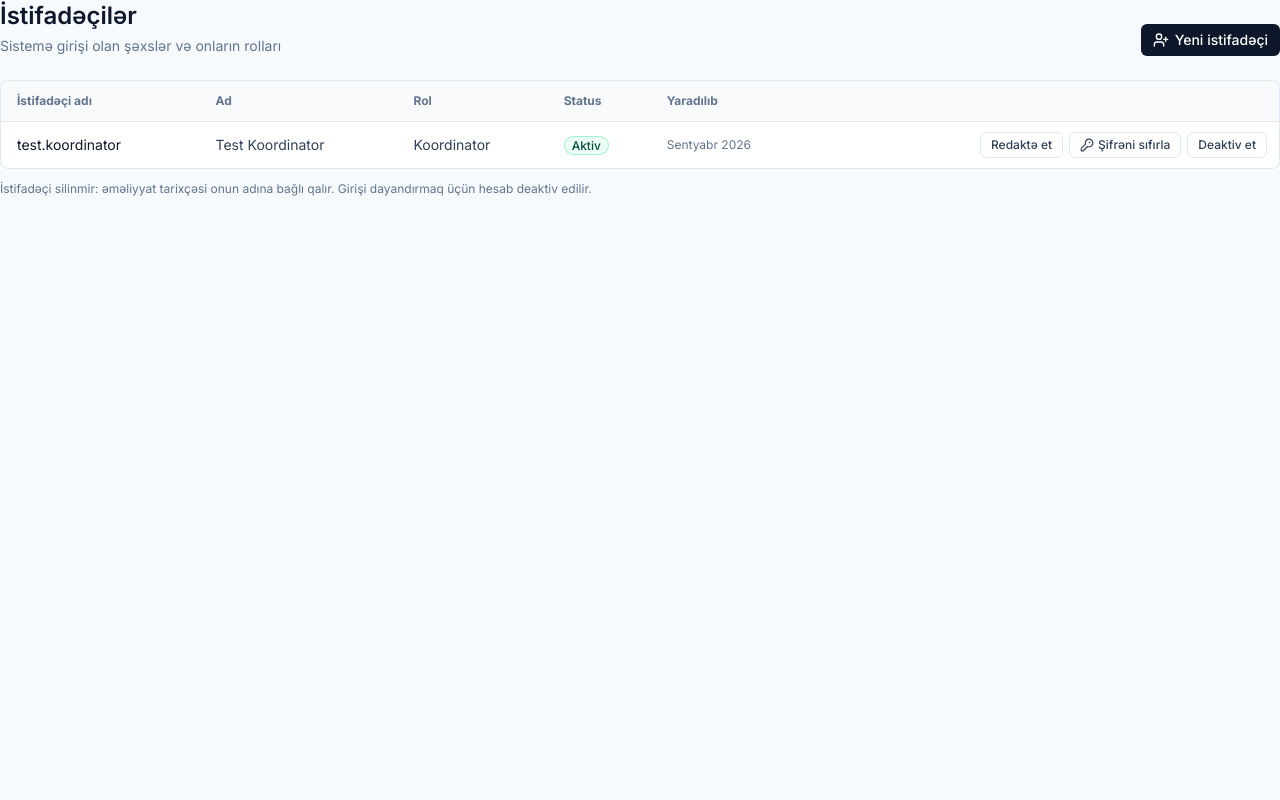
editing somebody › will not rename the login, and warns that old history keeps the old name
Expected: the heading "İstifadəçilər" is shown, [0, 1, 137, 30]
Click the button "Redaktə et" at (1022, 145), box [980, 132, 1063, 158]
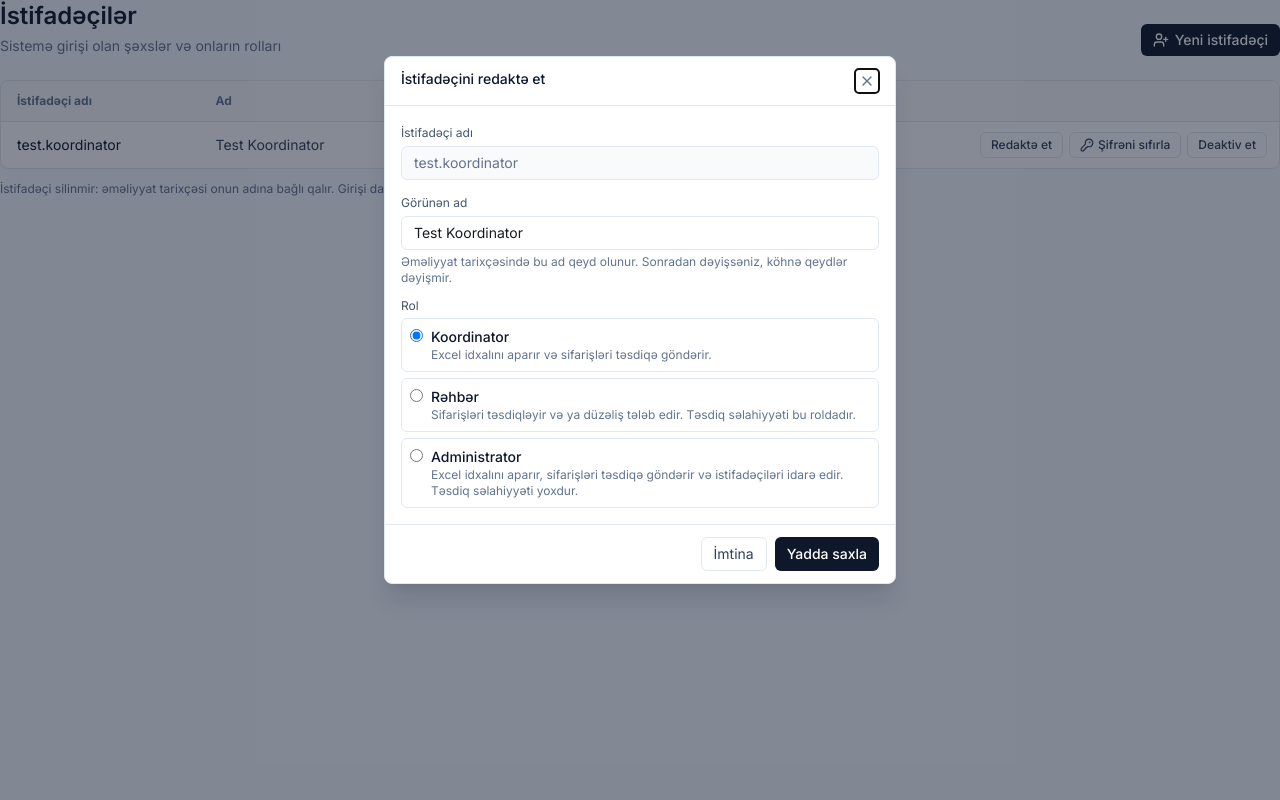
Expected: the field labelled "İstifadəçi adı" is disabled, [401, 146, 879, 180]
Expected: the text "köhnə qeydlər dəyişmir" is shown, [401, 254, 847, 285]
